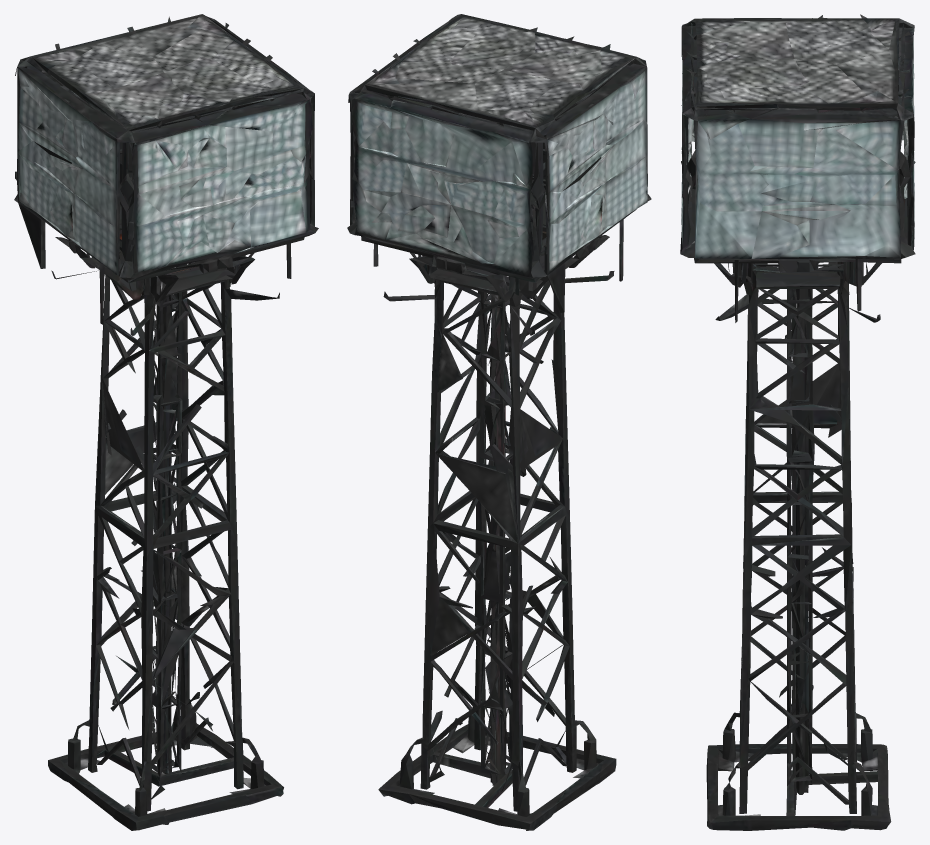
File: mx_du_floodlight.glb
3 renders of one model, left to right at view 1: azimuth 30°, elevation 25°; view 2: azimuth 150°, elevation 25°; view 3: azimuth 270°, elevation 25°, orthographic. The views are drawn at different scales.
Size of the model in its own units: 0.5575 by 1.9 by 0.5536.
1 material, 1 textured.
